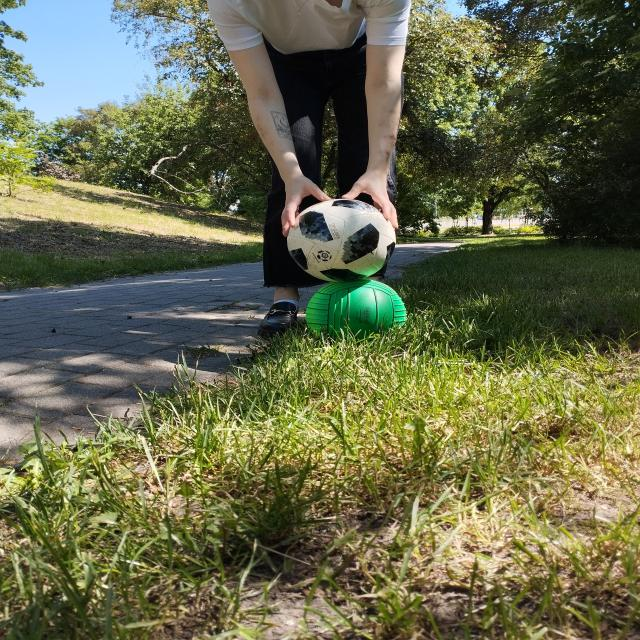nozna: (287, 198, 397, 282)
zielona: (306, 279, 408, 340)
